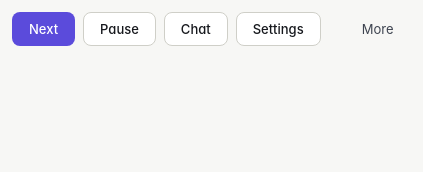
Test: ActionBar › puts the focus on the first entry, moves it with the arrow keys and gives it back
The width and height of the screenshot is (423, 172).
Click the button with test id "action-bar-overflow" at (366, 29), box [329,12,402,46]
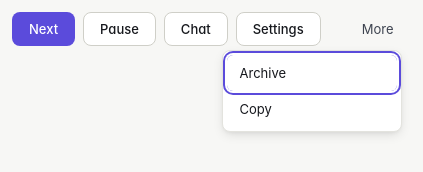
Press ArrowDown in the menu, box [222,50,402,132]
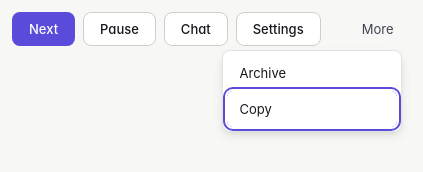
Press ArrowUp in the menu, box [222,50,402,132]
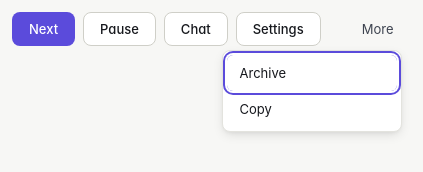
Press Escape in the menu, box [222,50,402,132]
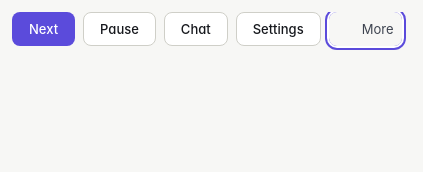
Now the menu is gone
